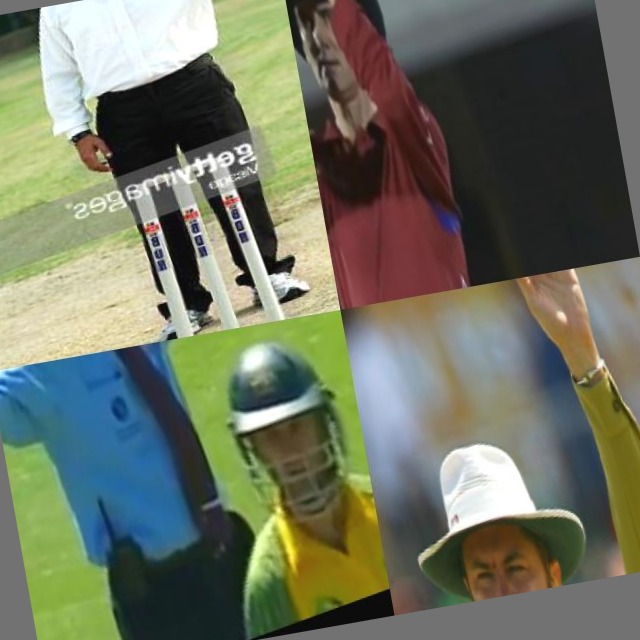No_Ball: (0, 0, 340, 360)
Six: (340, 257, 640, 615), (280, 0, 551, 310)
Wide: (0, 310, 378, 586)
